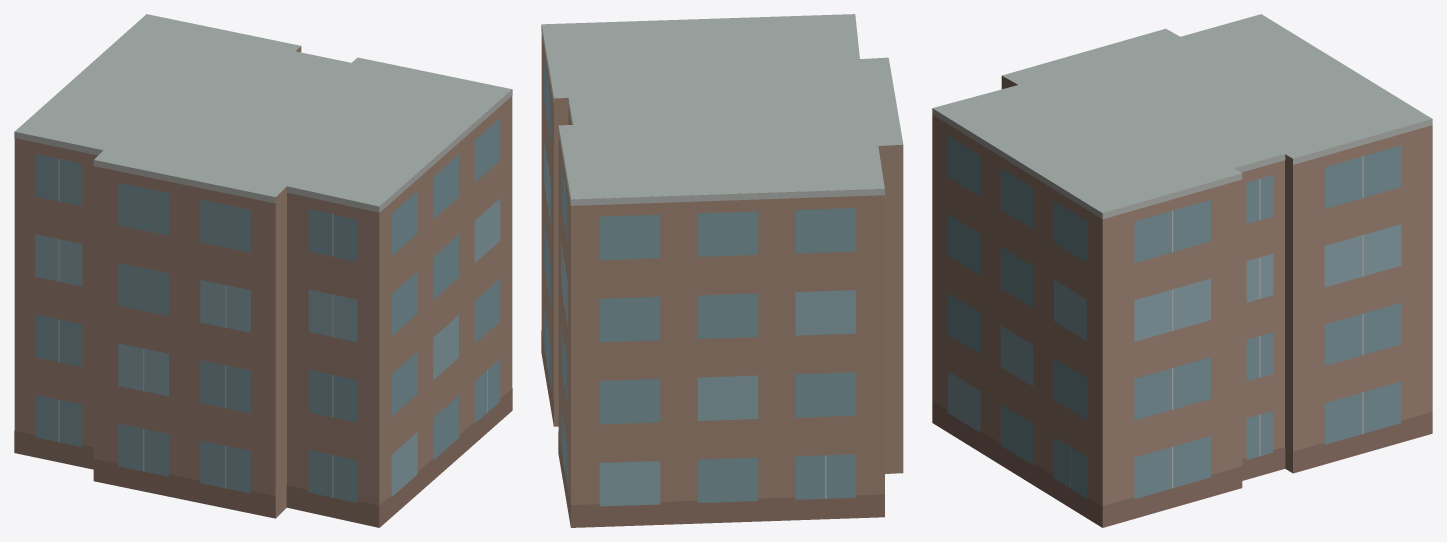
The model's file is survey-upis-32634229.glb.
3 views of the same model, side by side, from view 1: azimuth 30°, elevation 25°; view 2: azimuth 150°, elevation 25°; view 3: azimuth 270°, elevation 25° (orthographic). The views are drawn at different scales.
Parts seen in each view (by area): view 1: survey-upis-32634229.tmp; view 2: survey-upis-32634229.tmp; view 3: survey-upis-32634229.tmp.
Boxes of the visible parts, x1,y1,x2,y2 form: survey-upis-32634229.tmp: (14, 14, 512, 527); survey-upis-32634229.tmp: (541, 14, 903, 527); survey-upis-32634229.tmp: (932, 14, 1432, 527).
Size of the model in its own units: 16.98 by 12.5 by 18.03.
